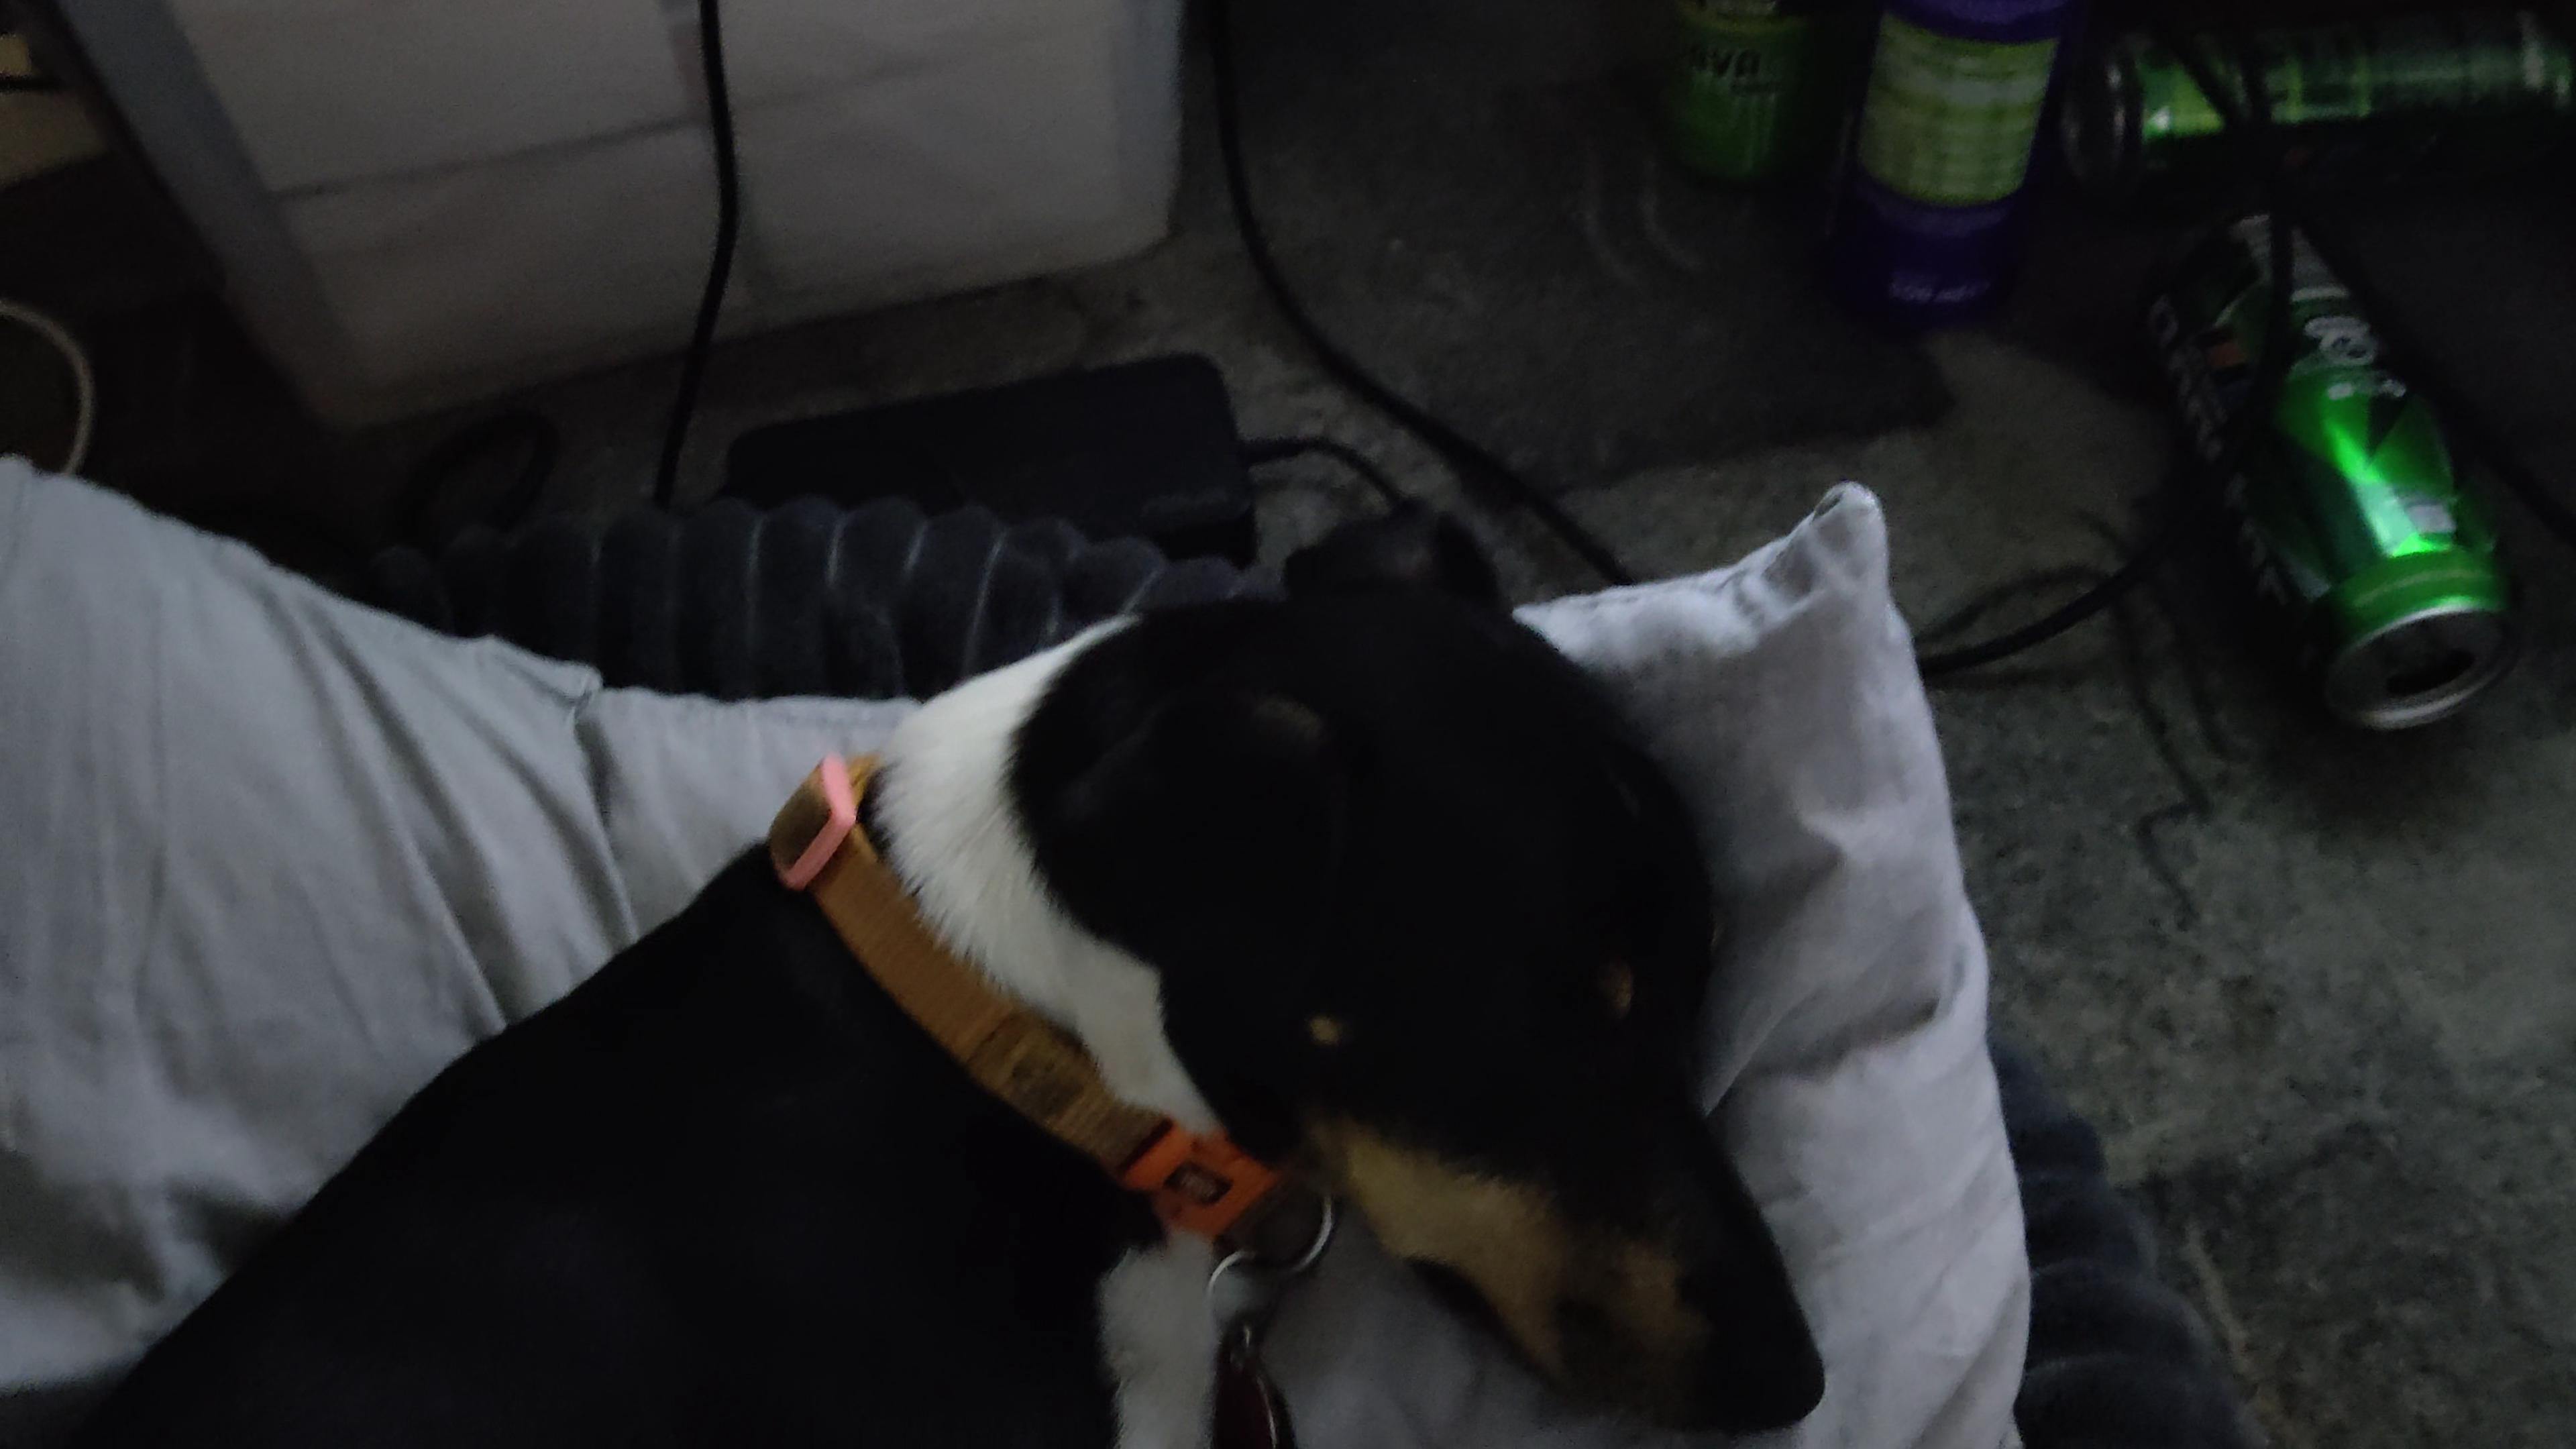Dog: (34, 479, 1874, 1449)
